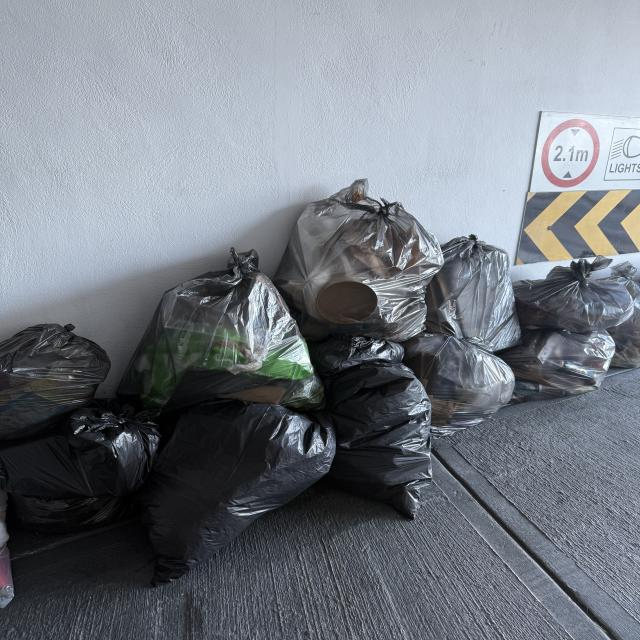Mixed Waste -Black Bags-: (1, 177, 640, 588)
